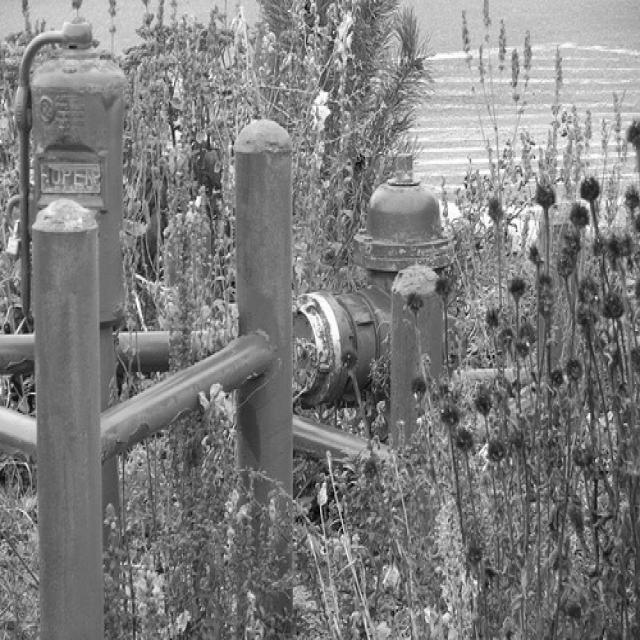fire_hydrant: (0, 15, 125, 406), (291, 283, 474, 418), (346, 152, 448, 290)
